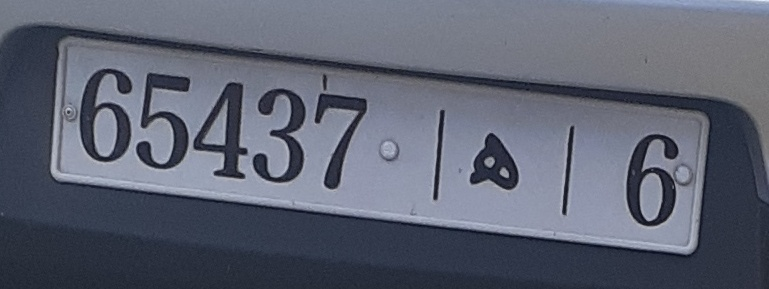3: (250, 79, 307, 186)
4: (189, 73, 248, 188)
5: (134, 65, 191, 171)
6: (615, 124, 684, 234), (76, 63, 137, 168)
7: (307, 88, 375, 197)
h: (462, 122, 538, 205)
